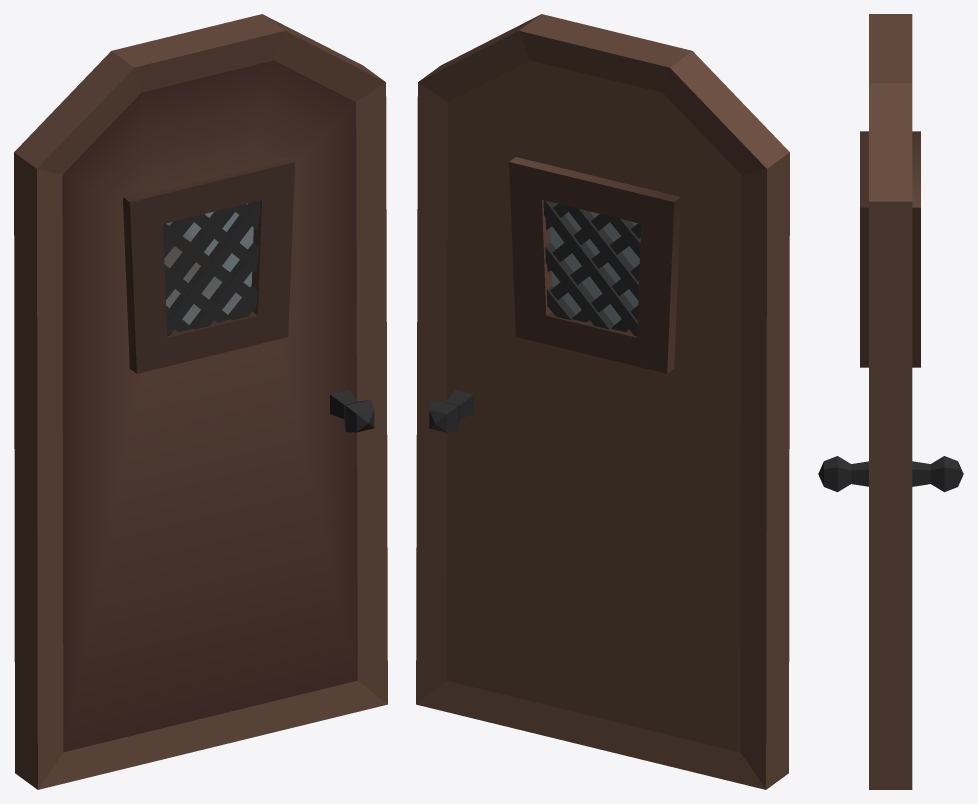
File: Door.fbx
The picture shows the model from 3 angles, left to right: view 1: azimuth 30°, elevation 25°; view 2: azimuth 150°, elevation 25°; view 3: azimuth 270°, elevation 25°; orthographic projection. The views are drawn at different scales.
Parts seen in each view (by area): view 1: Door; view 2: Door; view 3: Door.
Part boxes in pixels (x1=…): Door: x1=14, y1=14, x2=387, y2=789; Door: x1=416, y1=14, x2=789, y2=789; Door: x1=818, y1=14, x2=963, y2=789.
Size of the model in its own units: 0.8286 by 1.58 by 0.3154.
